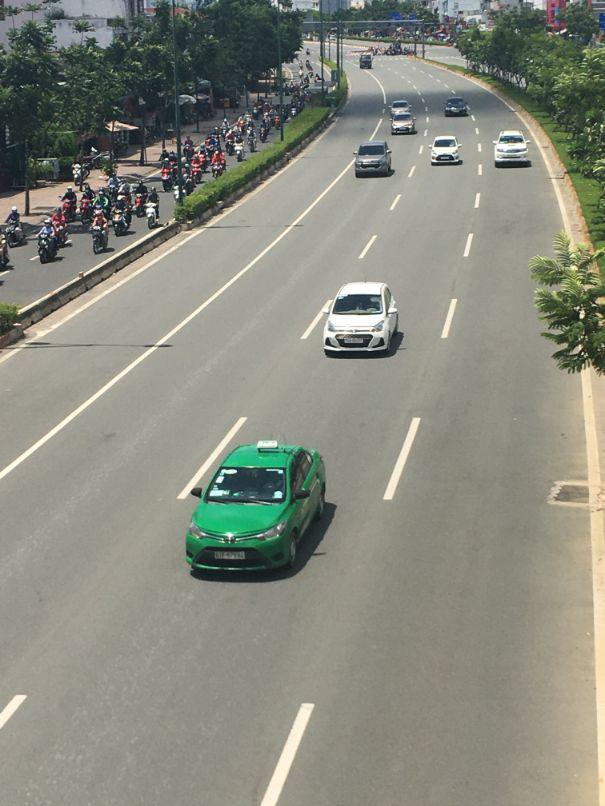car: (184, 437, 331, 577), (323, 282, 403, 355), (355, 140, 395, 179), (495, 132, 529, 171), (430, 138, 461, 167), (389, 107, 415, 134), (444, 99, 469, 118)
motorbike: (39, 228, 64, 264), (91, 219, 110, 256)
